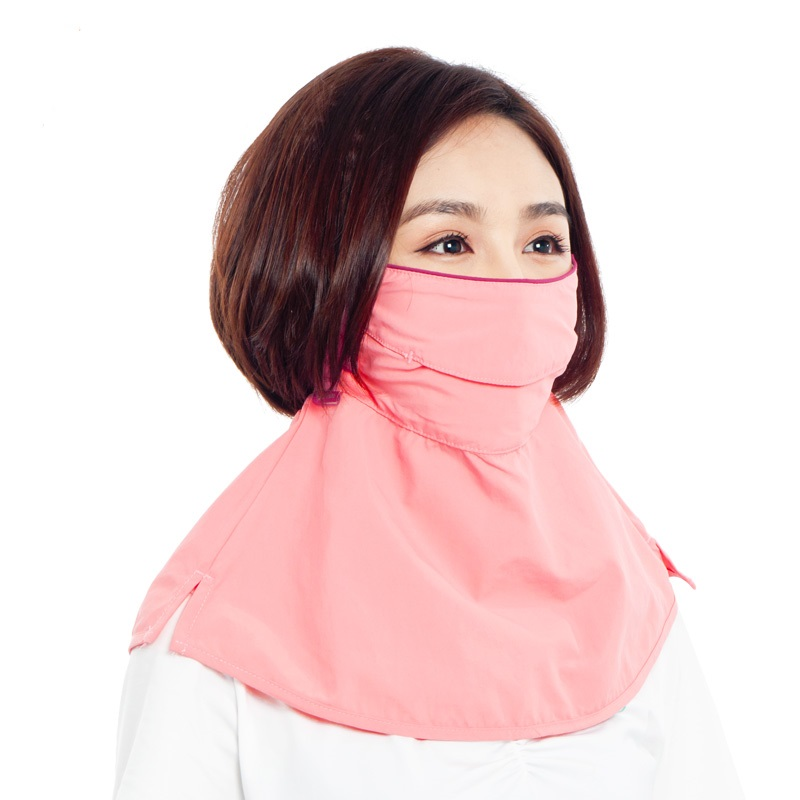face_mask: (351, 111, 575, 412)
